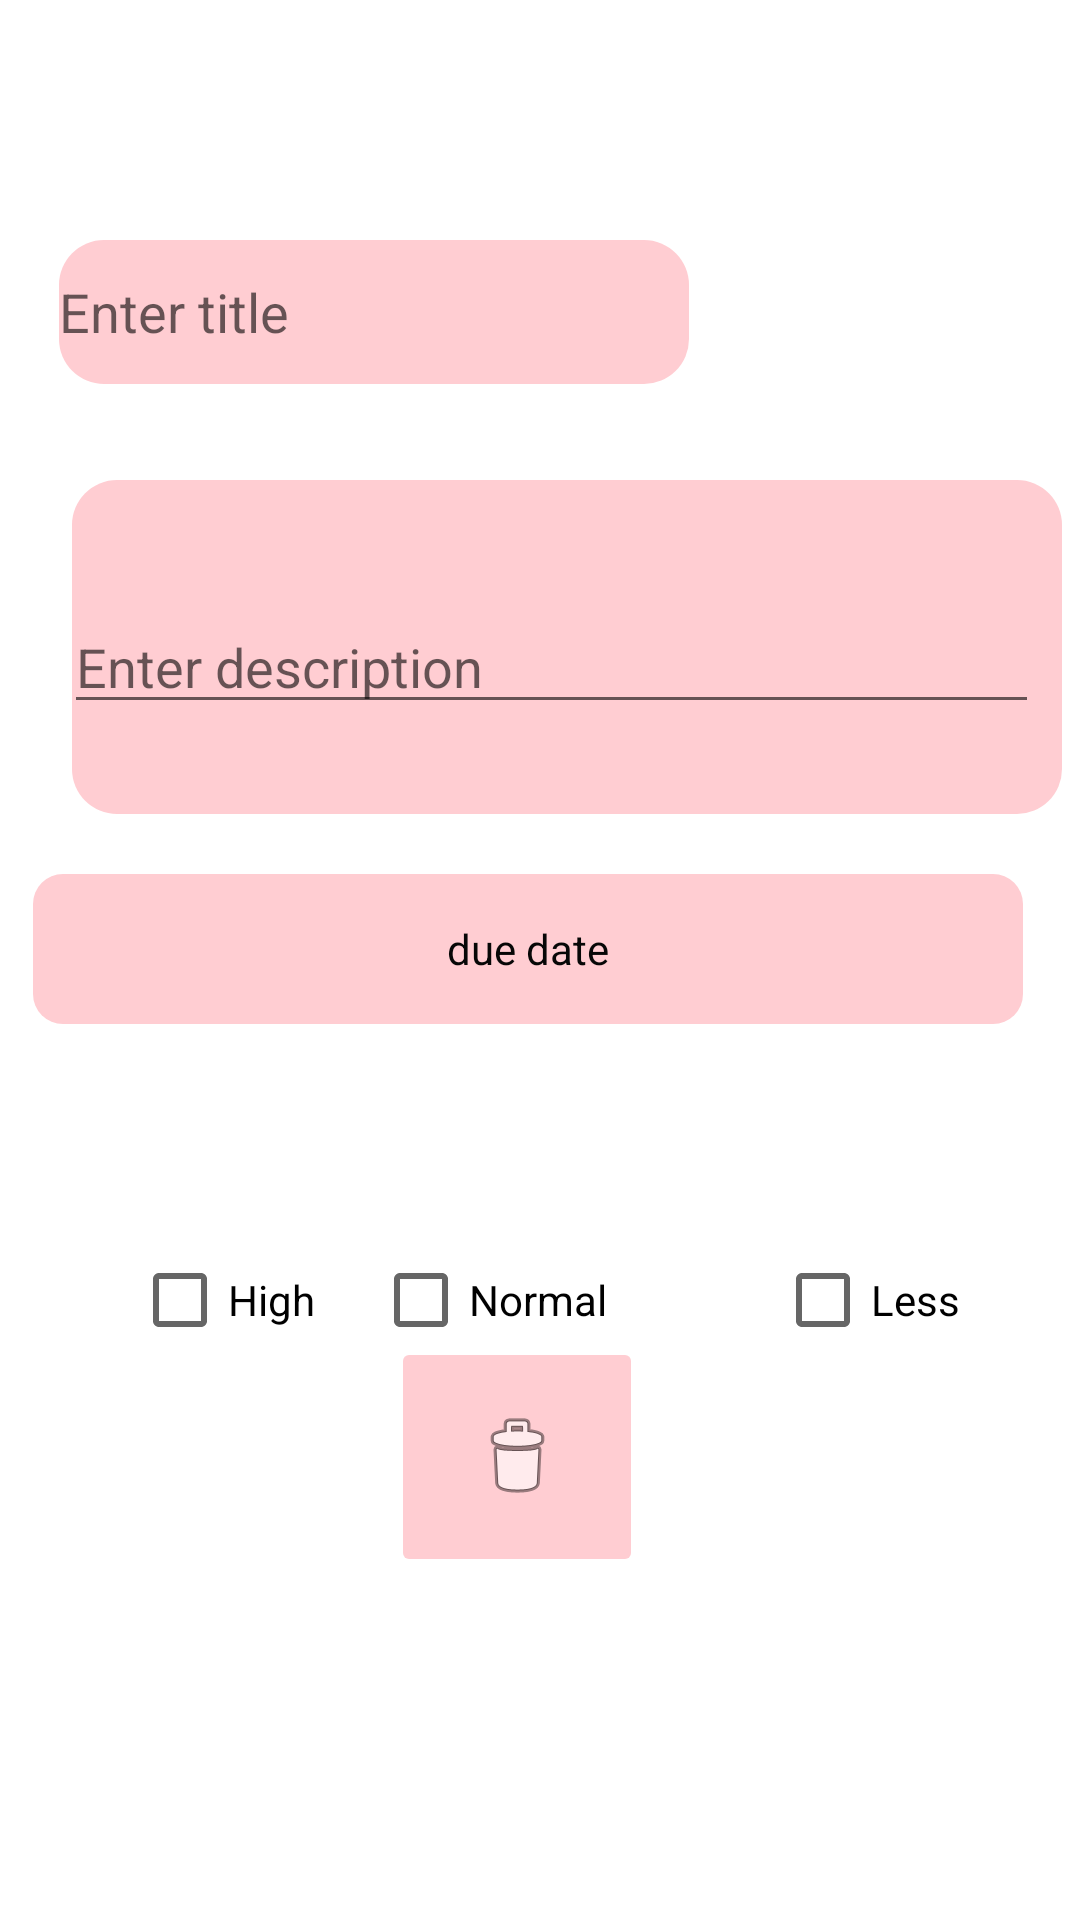

Screen size 1080px×1920px. Icon name, then its center in pixels as (x,y):
delete: (517,1457)
